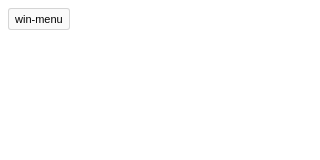
Scenario: DockPanelTabButton › Context menu can show, close and undock the related window
Later steps or results of the test are not shown.
Right-click the button "win-menu" at (39, 19), box [8,8,70,30]
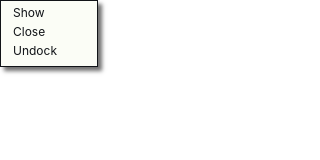
Result: the text "Show" is shown at [13,5,45,20]
Result: the text "Close" is shown at [13,24,45,39]
Result: the text "Undock" is shown at [13,43,57,58]
